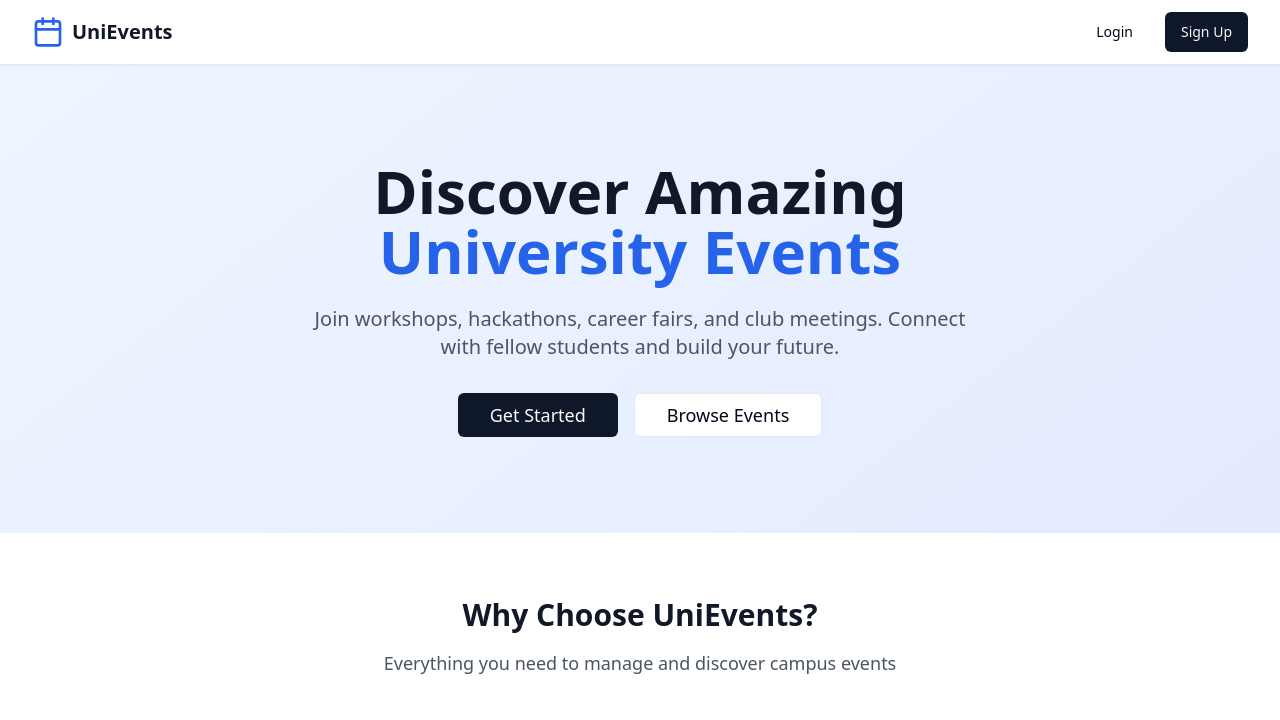
Test: Index Page › shows no events for unmatched search
The image size is (1280, 720).
Click the button "Browse Events": click(728, 415) [634, 393, 822, 437]
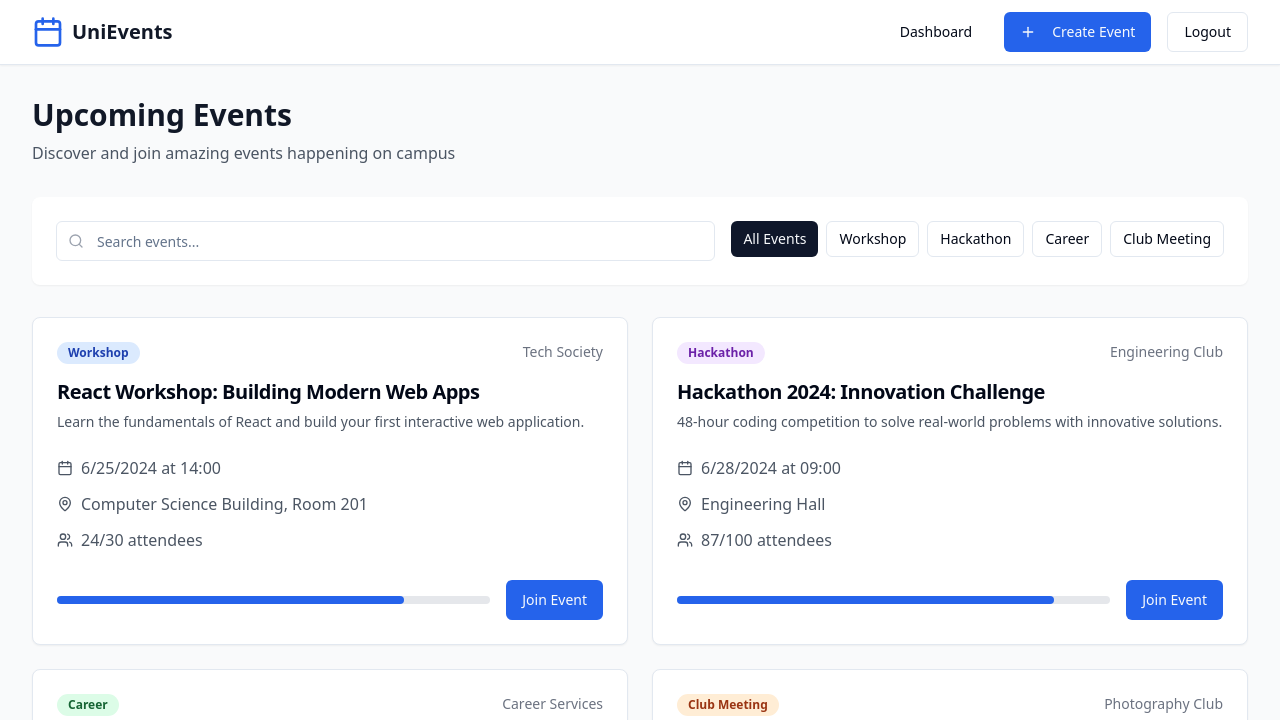
In the field with placeholder "Search events...": (386, 241) [56, 221, 715, 261], type "nonsense"
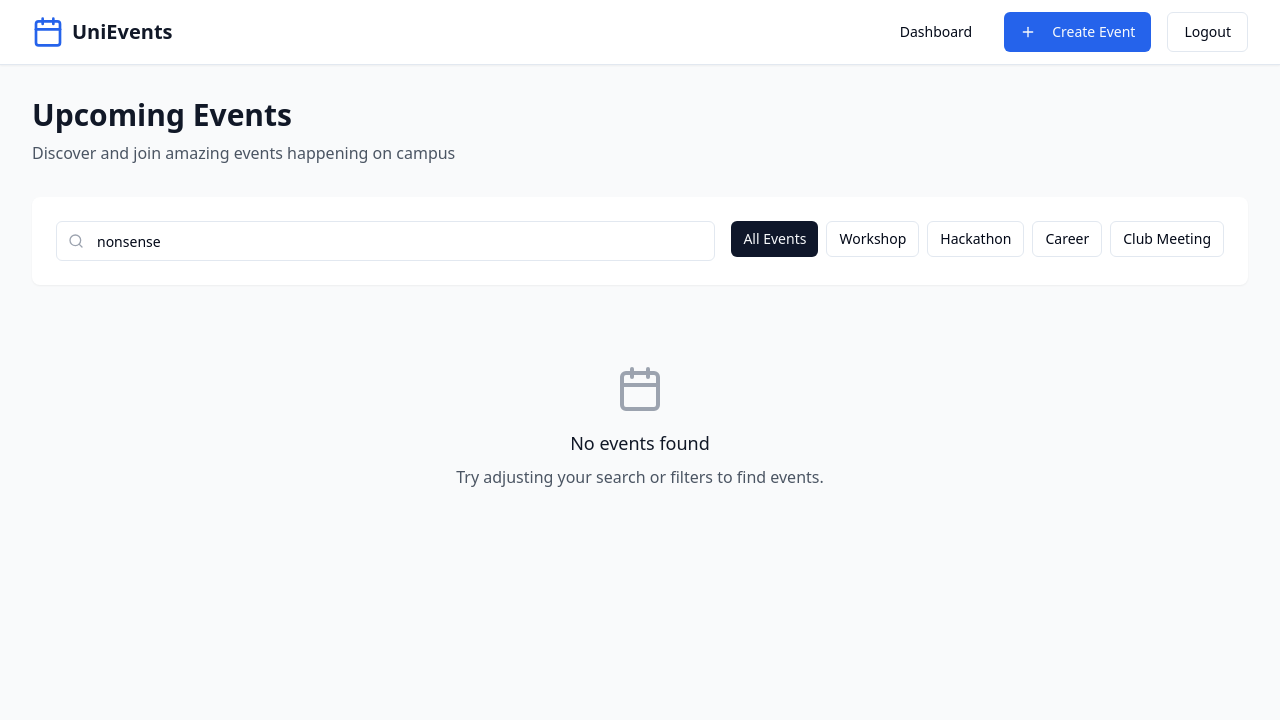
Now the heading "No events found" is shown, box [570, 431, 710, 455]
